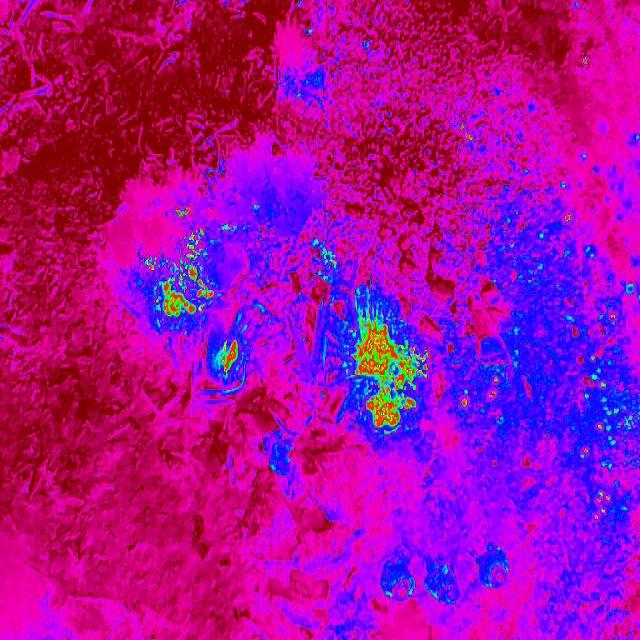fire: (565, 305, 640, 533), (346, 311, 428, 431), (144, 226, 213, 318), (455, 370, 503, 416), (214, 338, 242, 374), (318, 248, 338, 274), (460, 124, 473, 144), (171, 208, 190, 220), (563, 212, 577, 228)
